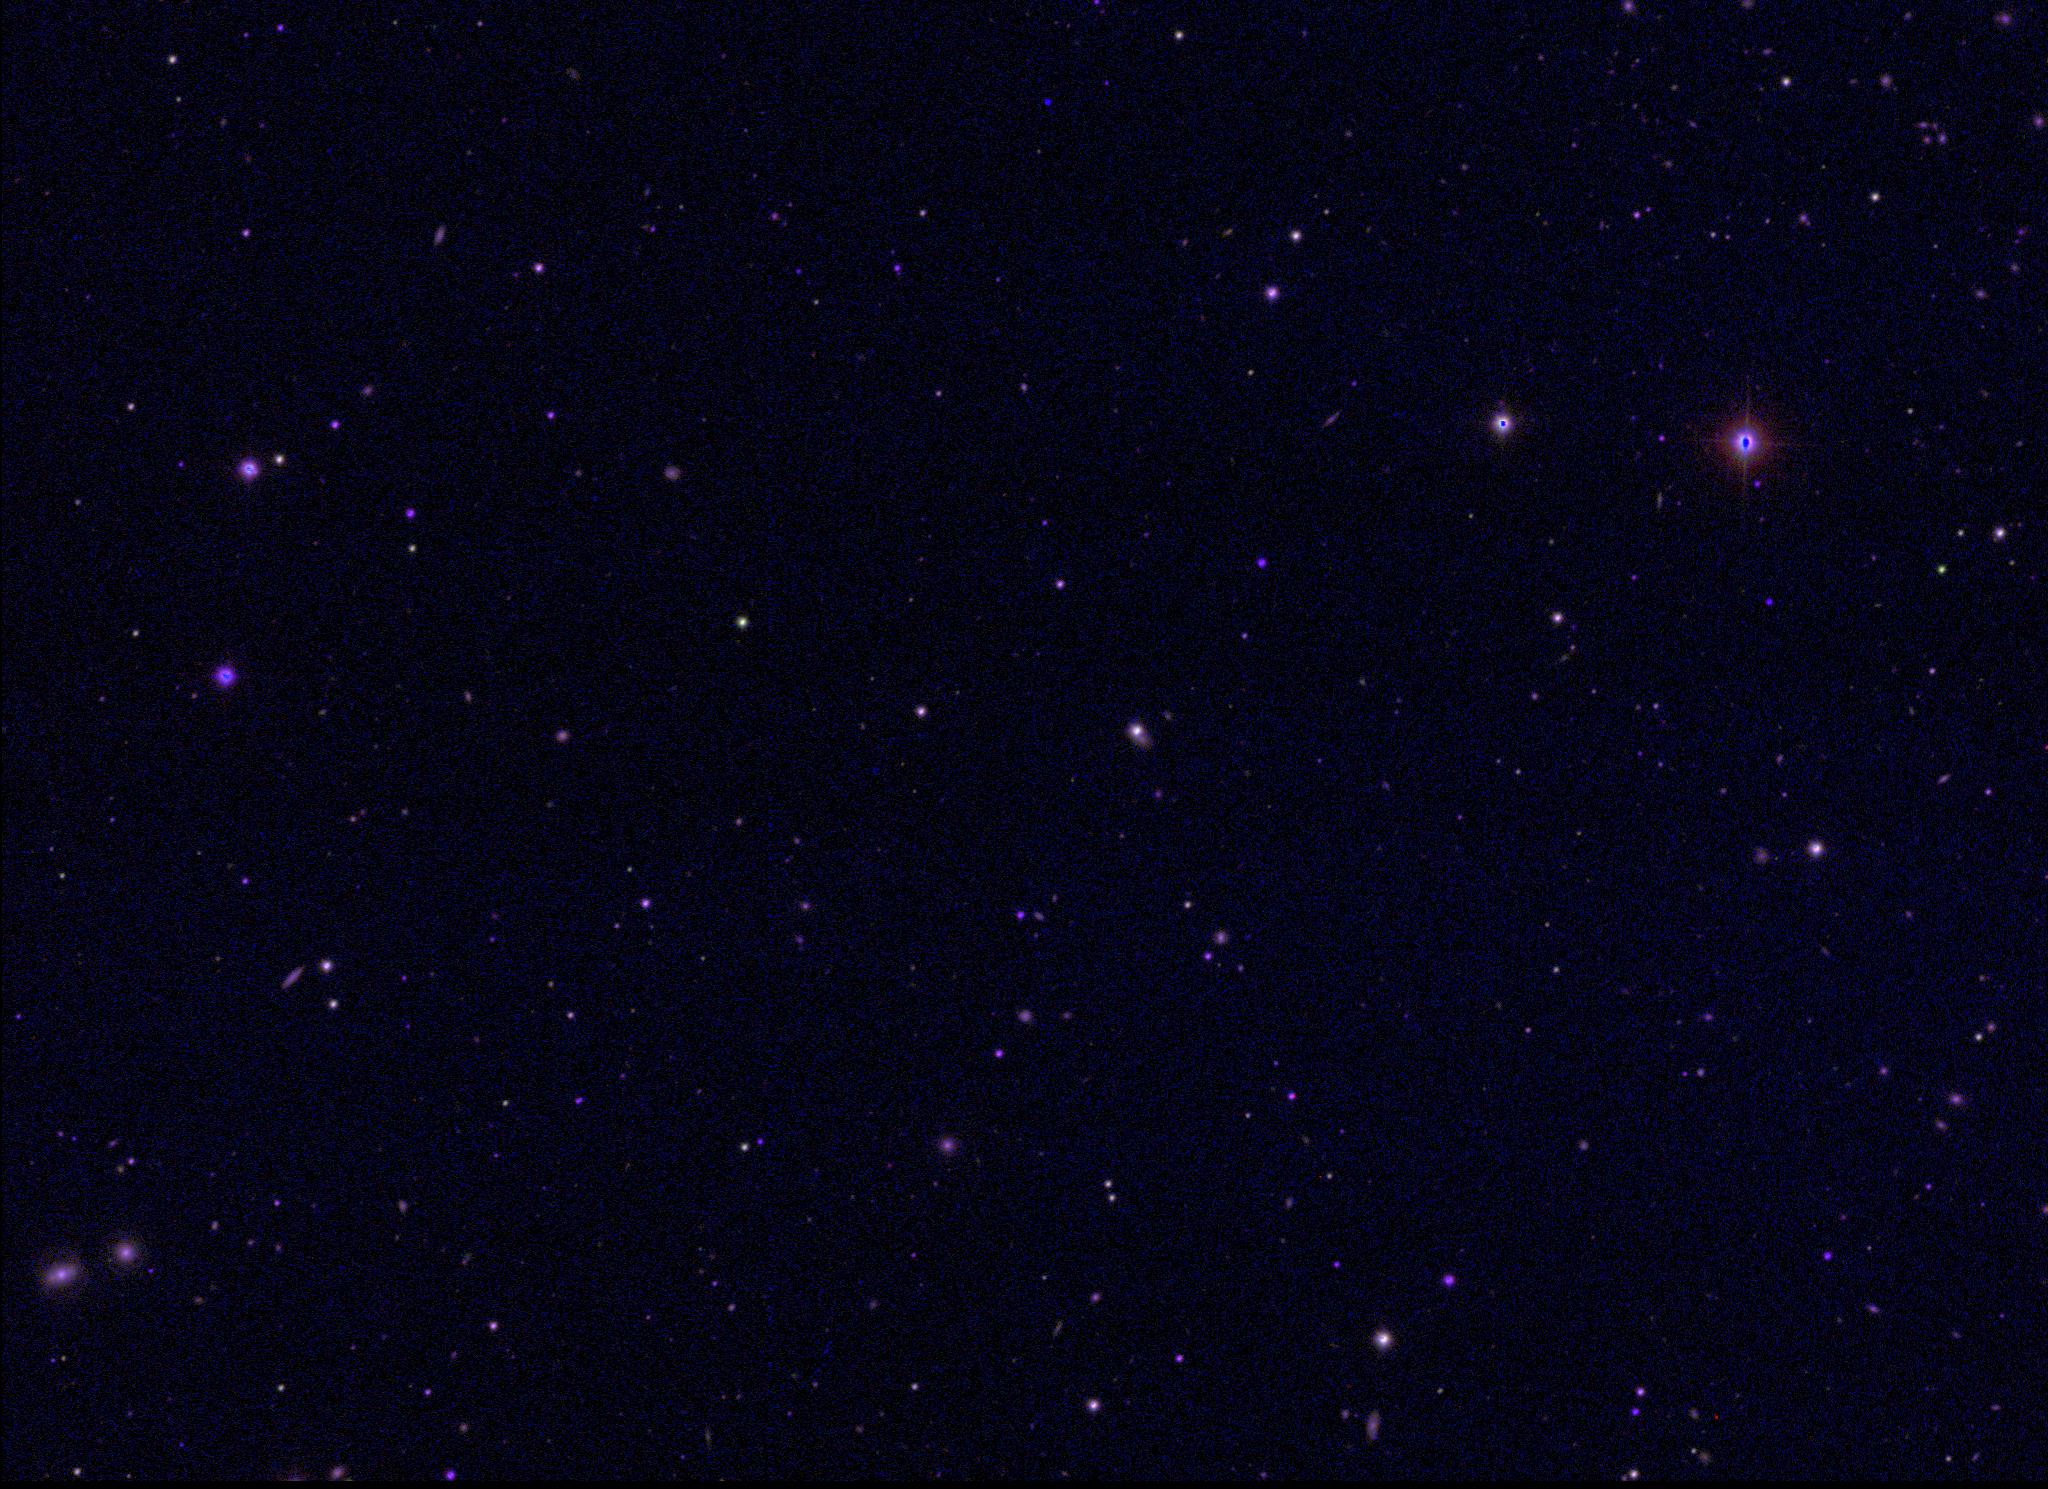L: (1040, 95, 1054, 110)
